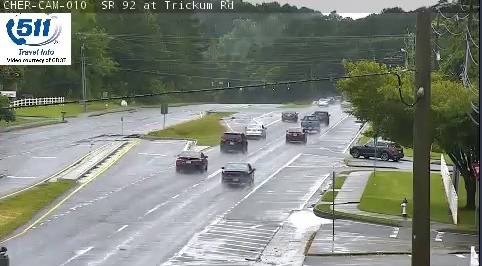car: (221, 163, 253, 184), (177, 152, 207, 170), (220, 133, 248, 152), (286, 127, 306, 143), (244, 125, 266, 137), (301, 116, 319, 130), (313, 111, 329, 125), (282, 110, 298, 121)
